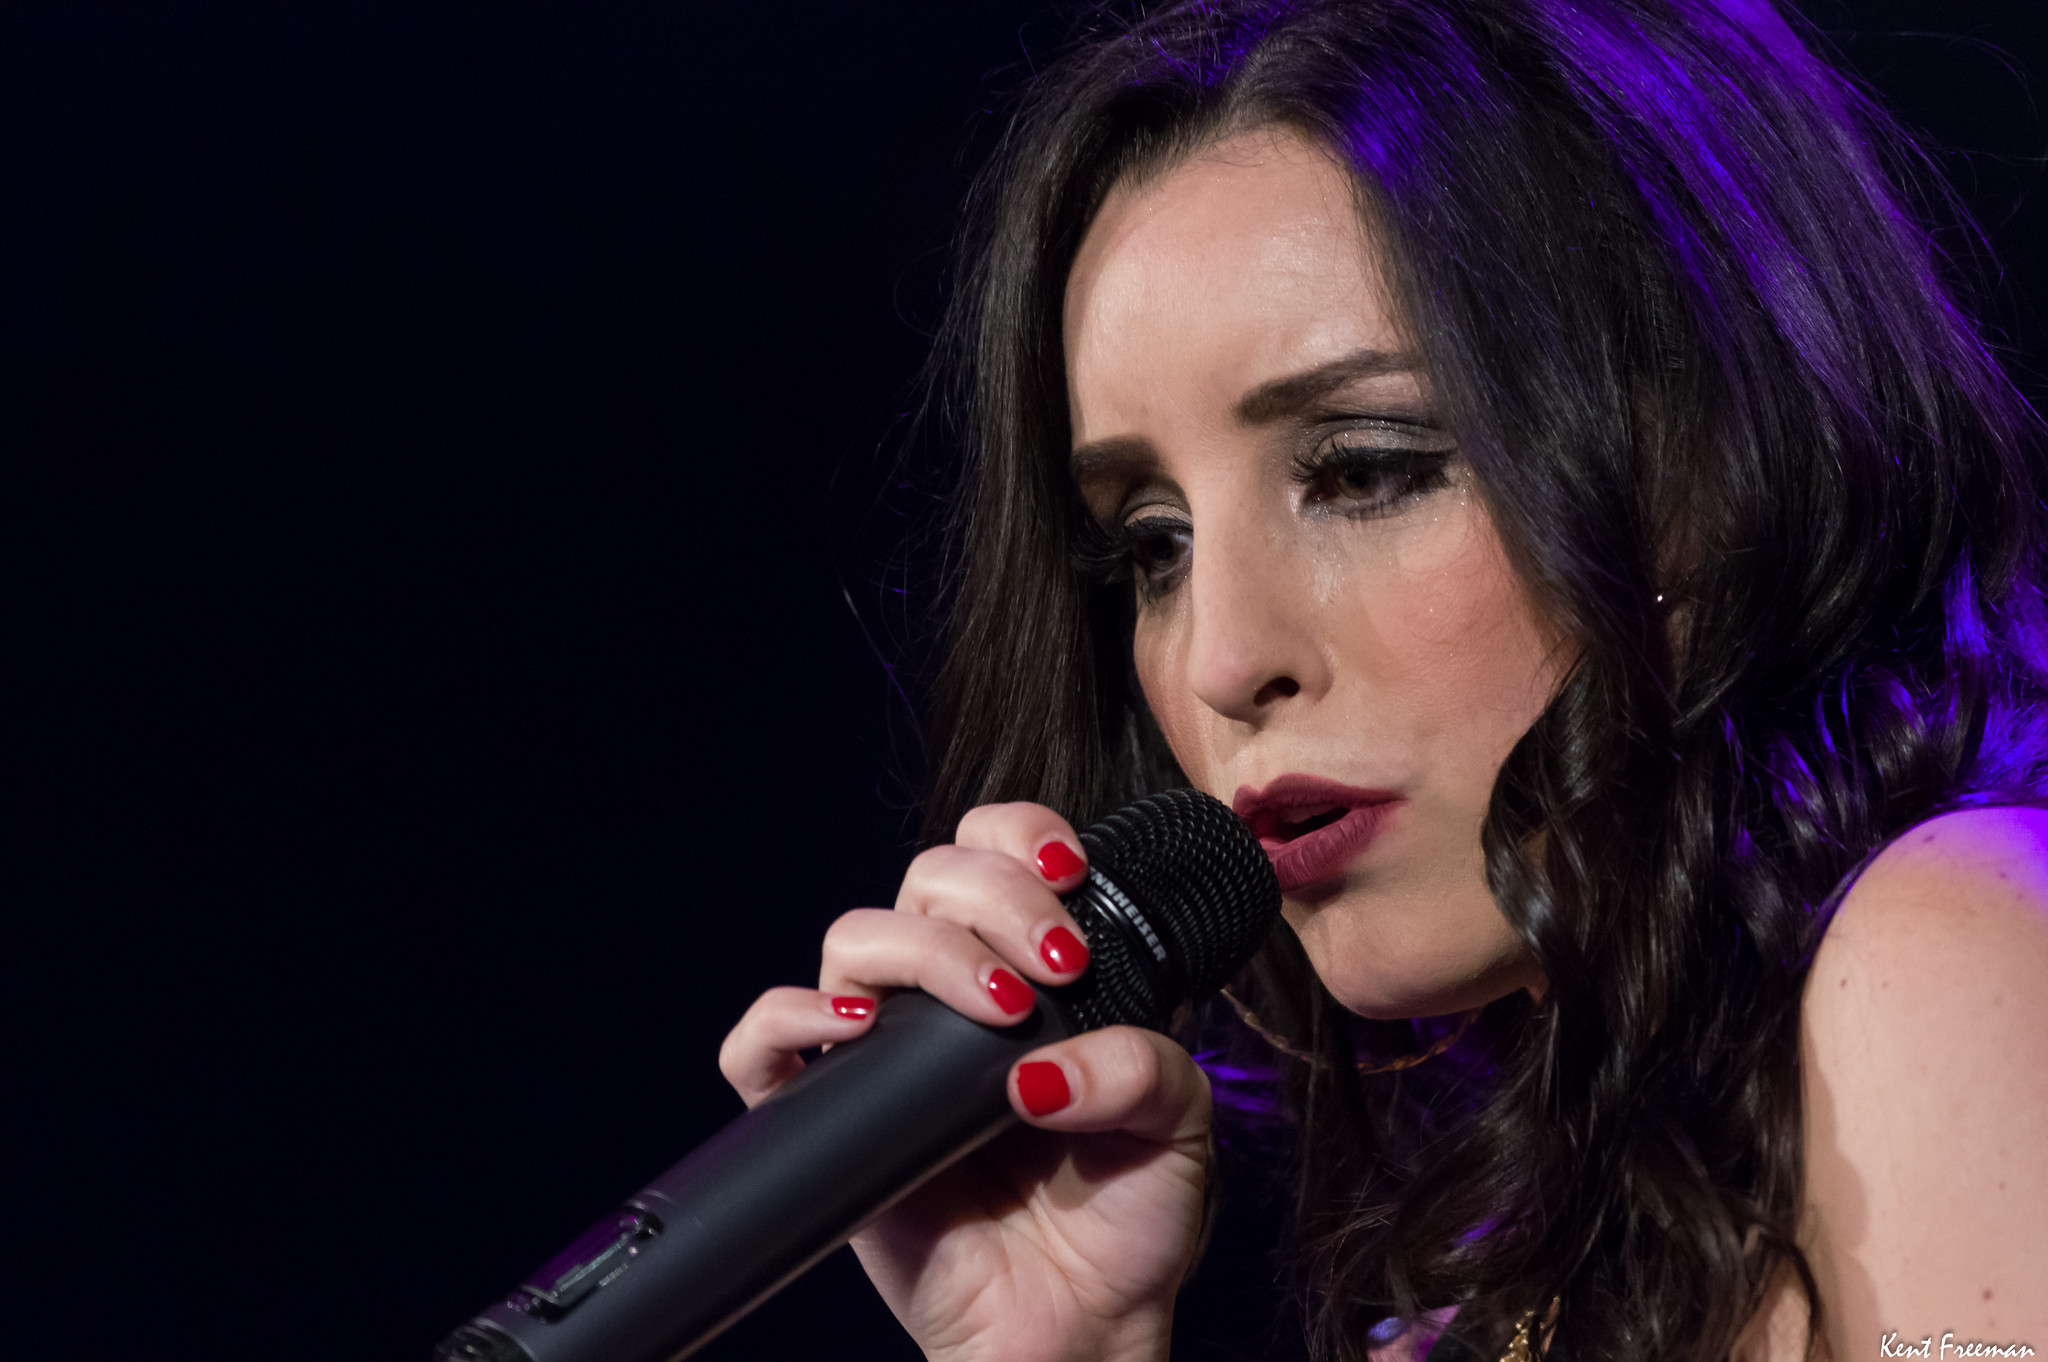person: (860, 34, 2048, 1357)
